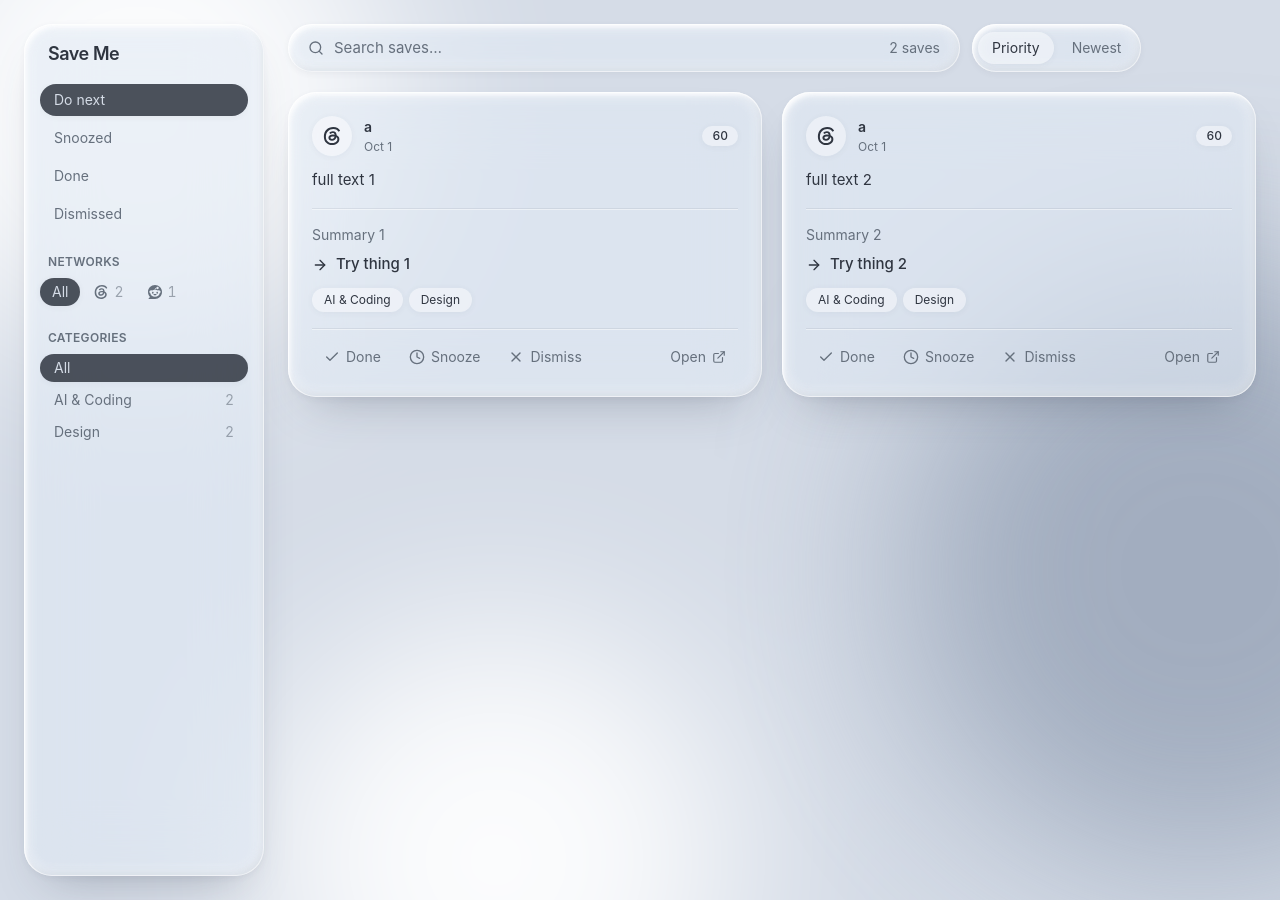
sorts do next by newest post when asked, and only offers it there
Expected: the text "Summary 1" is shown, x1=312 y1=226 x2=385 y2=243
Click the button "Newest".
click(1097, 48)  # box x1=1058 y1=32 x2=1136 y2=64
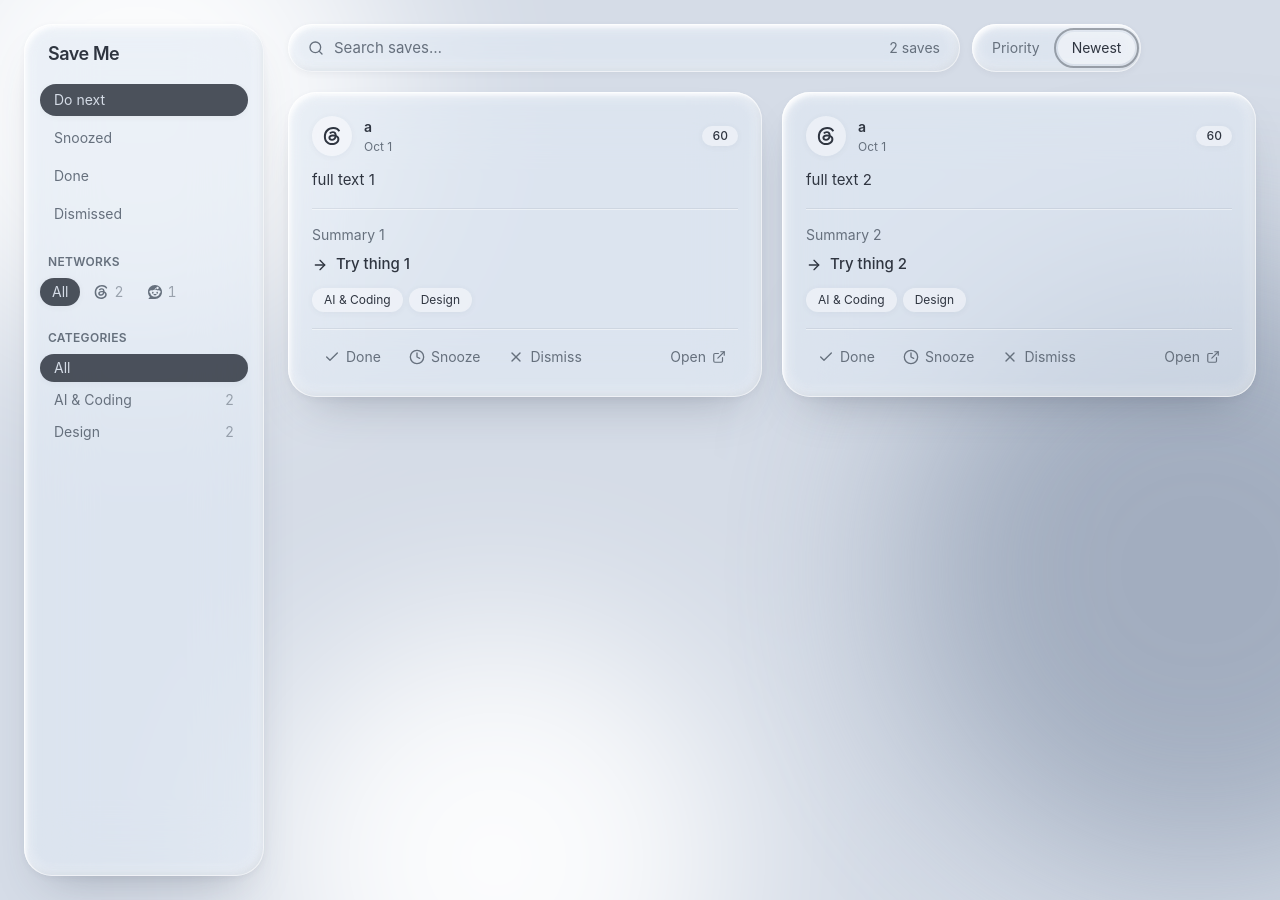
Expected: the button "Newest" is pressed, x1=1058 y1=32 x2=1136 y2=64
Click the button "Done" below "Save Me".
click(144, 176)  # box x1=40 y1=160 x2=248 y2=192
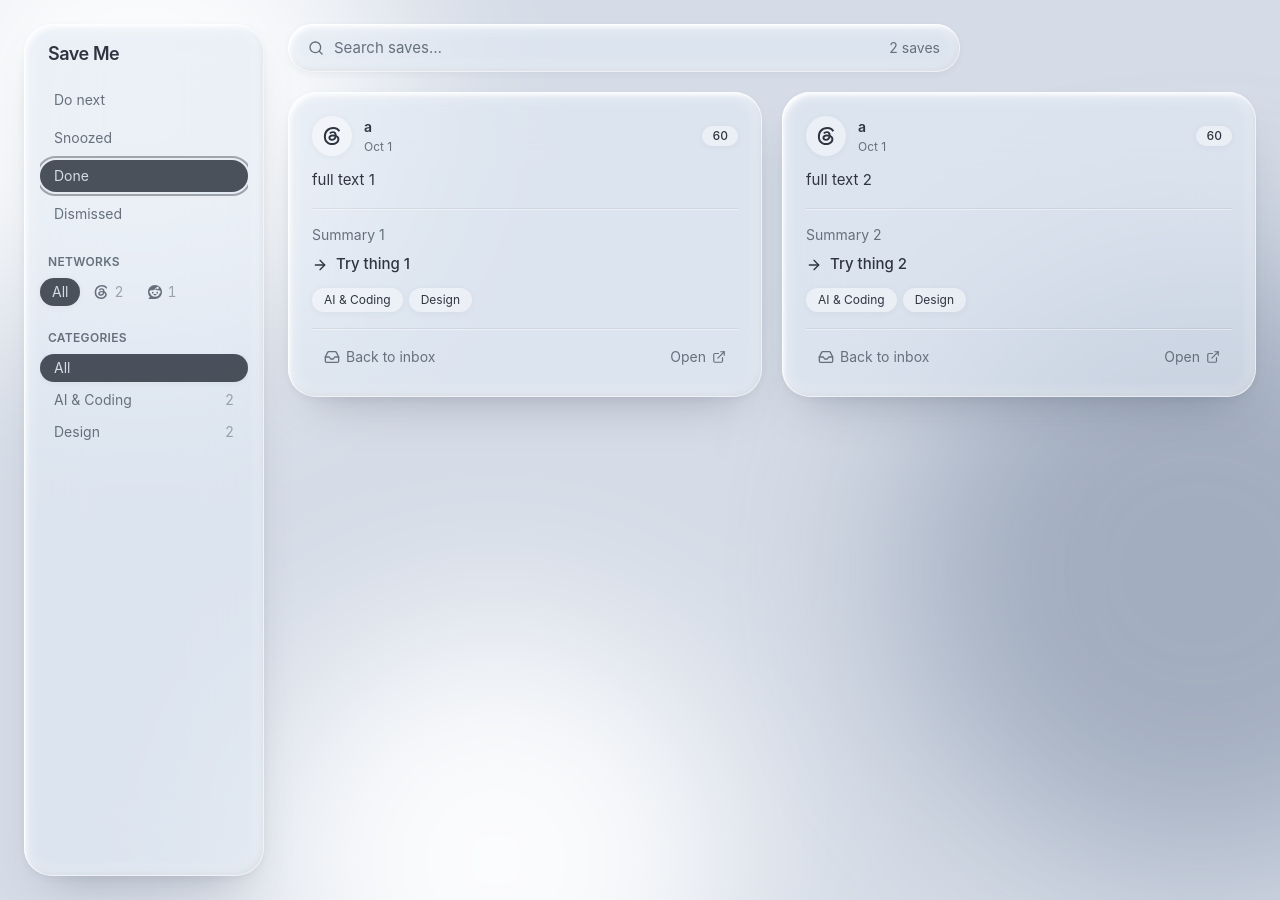
Expected: the element "Sort" is gone
